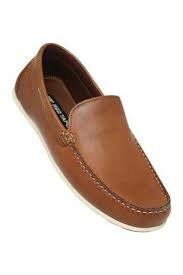Formal: (12, 40, 176, 240)
